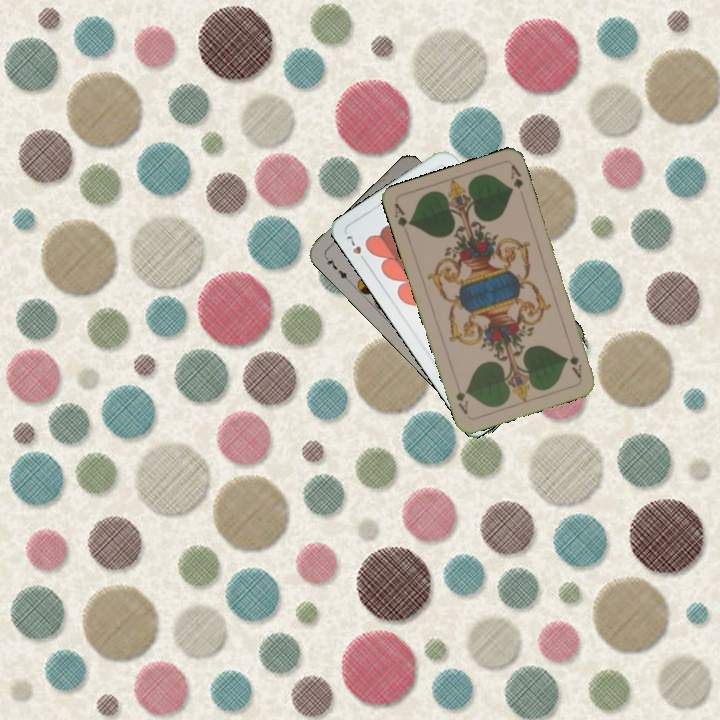E7: (321, 253, 353, 285)
GA: (565, 341, 584, 381), (390, 200, 414, 230)
H7: (342, 231, 369, 266)
